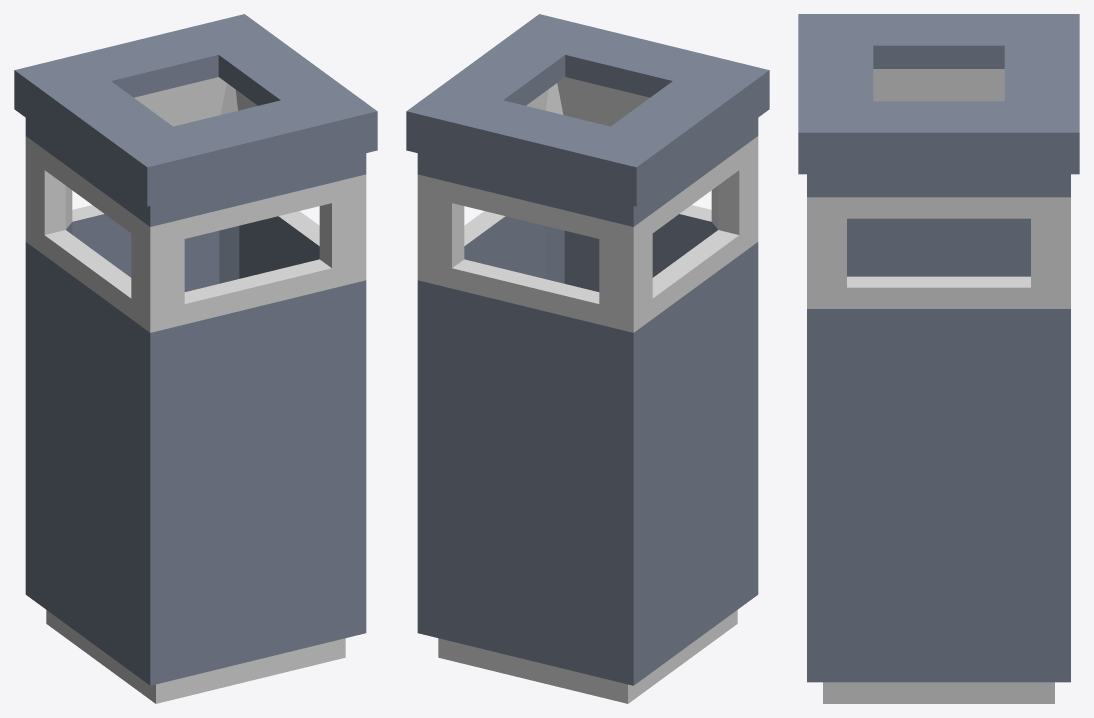
Rendered from bin.fbx.
3 renders of one model, left to right at view 1: azimuth 30°, elevation 25°; view 2: azimuth 150°, elevation 25°; view 3: azimuth 270°, elevation 25°, orthographic. The views are drawn at different scales.
Parts seen in each view (by area): view 1: sptp_bin_01; view 2: sptp_bin_01; view 3: sptp_bin_01.
Part boxes in pixels (left/top/right/bottom): sptp_bin_01: left=14, top=14, right=377, bottom=703; sptp_bin_01: left=406, top=14, right=769, bottom=703; sptp_bin_01: left=798, top=14, right=1079, bottom=703.
Size of the model in its own units: 31.96 by 72.99 by 31.96.
1 material, 1 textured.
